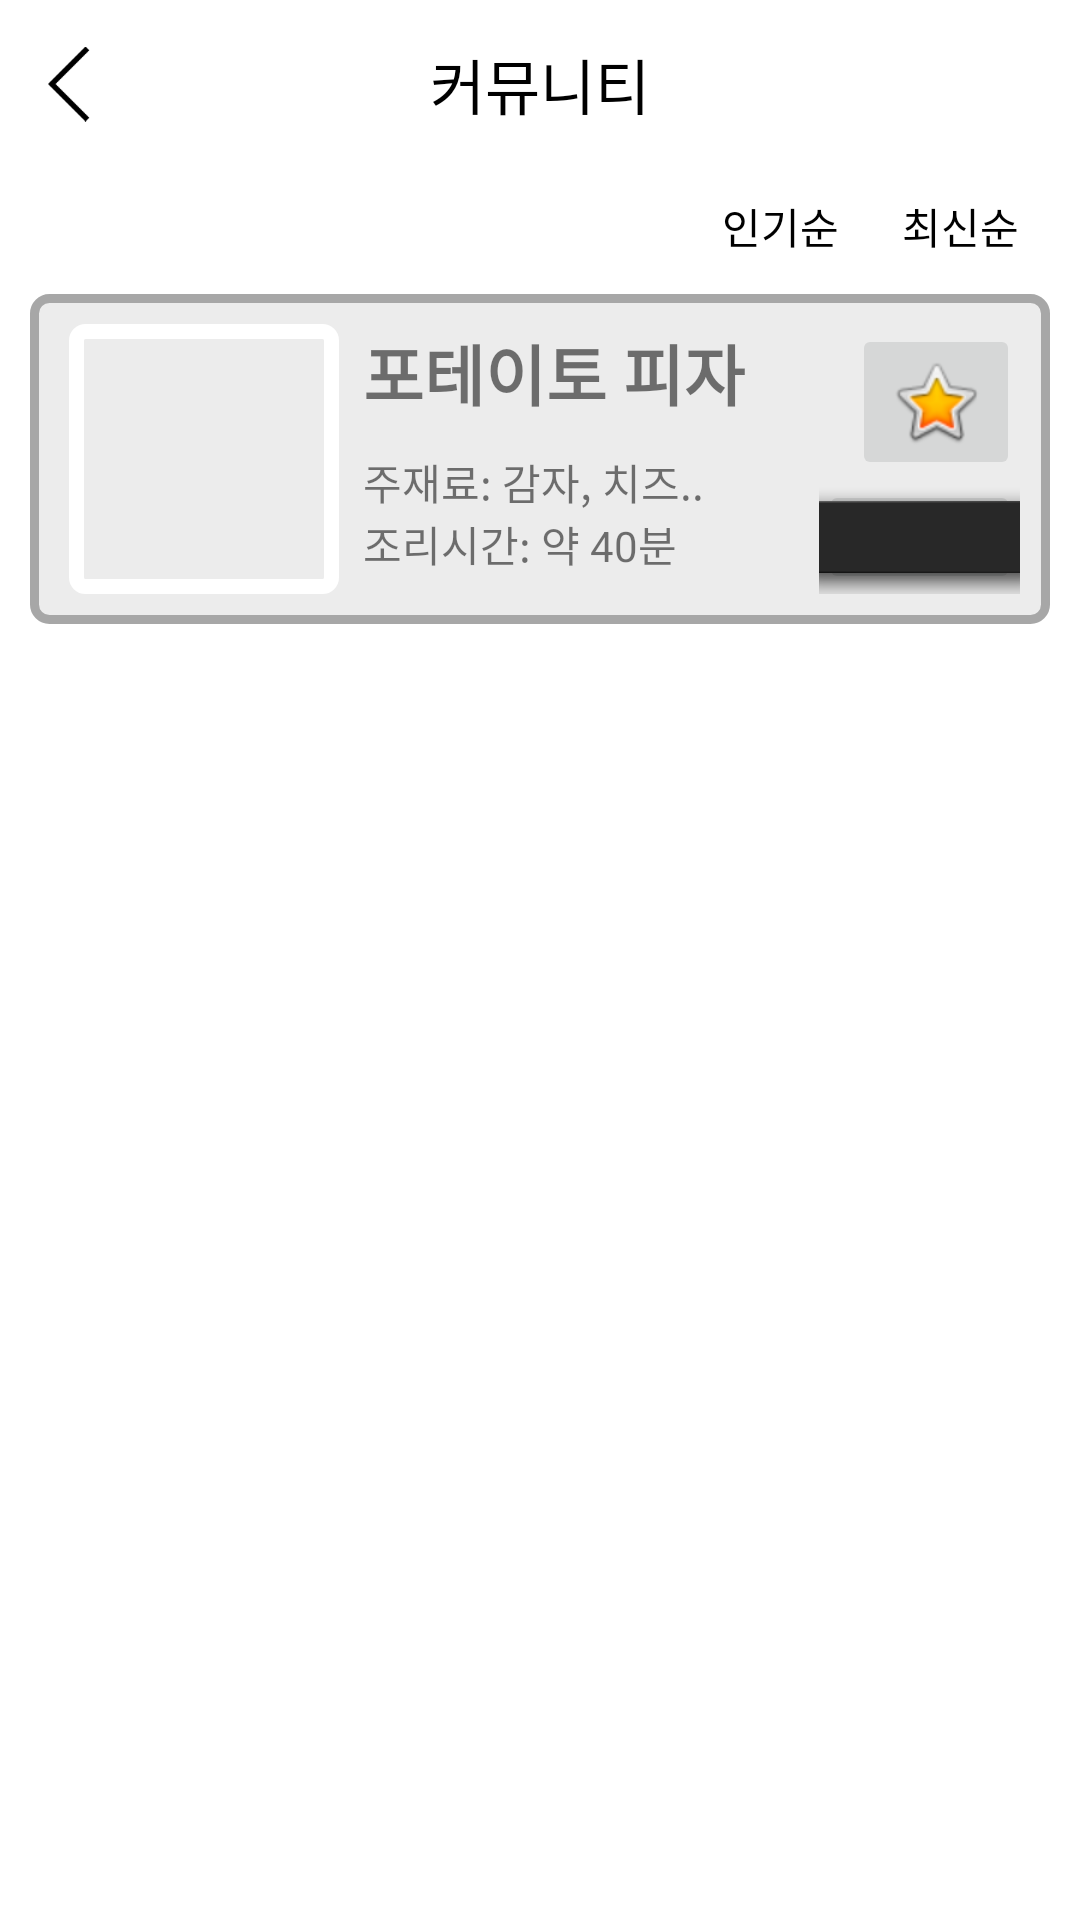

Icon bounding boxes for this 1080w x 1920h phone screenshot, format bbox=(x1, y1, x2, y2):
back: bbox=(48, 47, 89, 122)
star on: bbox=(895, 362, 979, 444)
